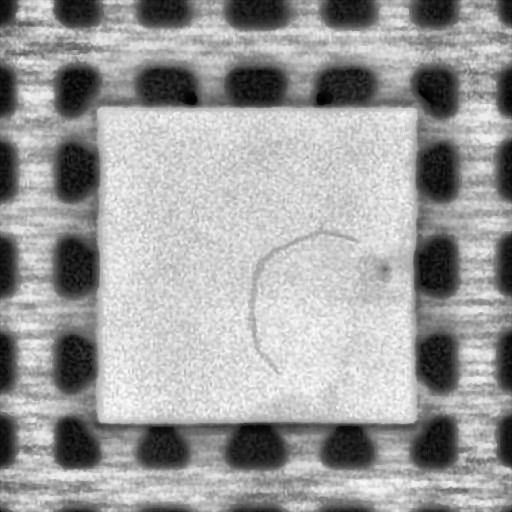DIE_CRACK: (244, 227, 362, 378)
